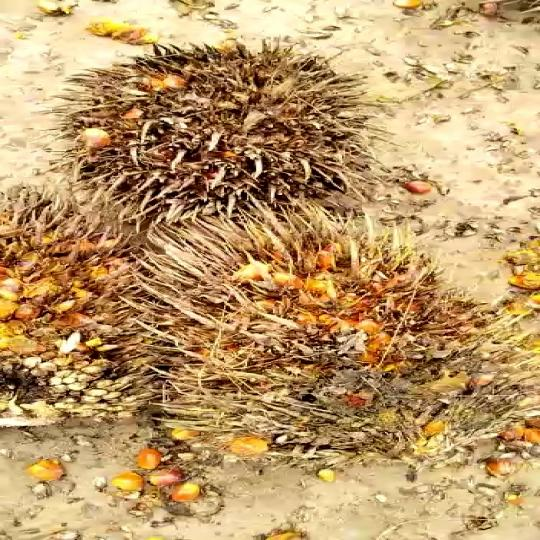terlalu masak: (122, 212, 518, 465), (66, 45, 373, 210)
